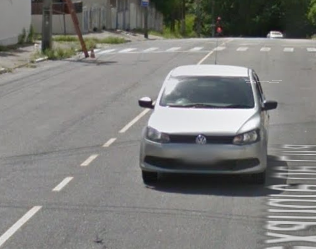car: (137, 41, 281, 189)
